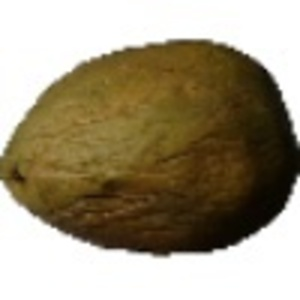mamão: (4, 36, 294, 259)
